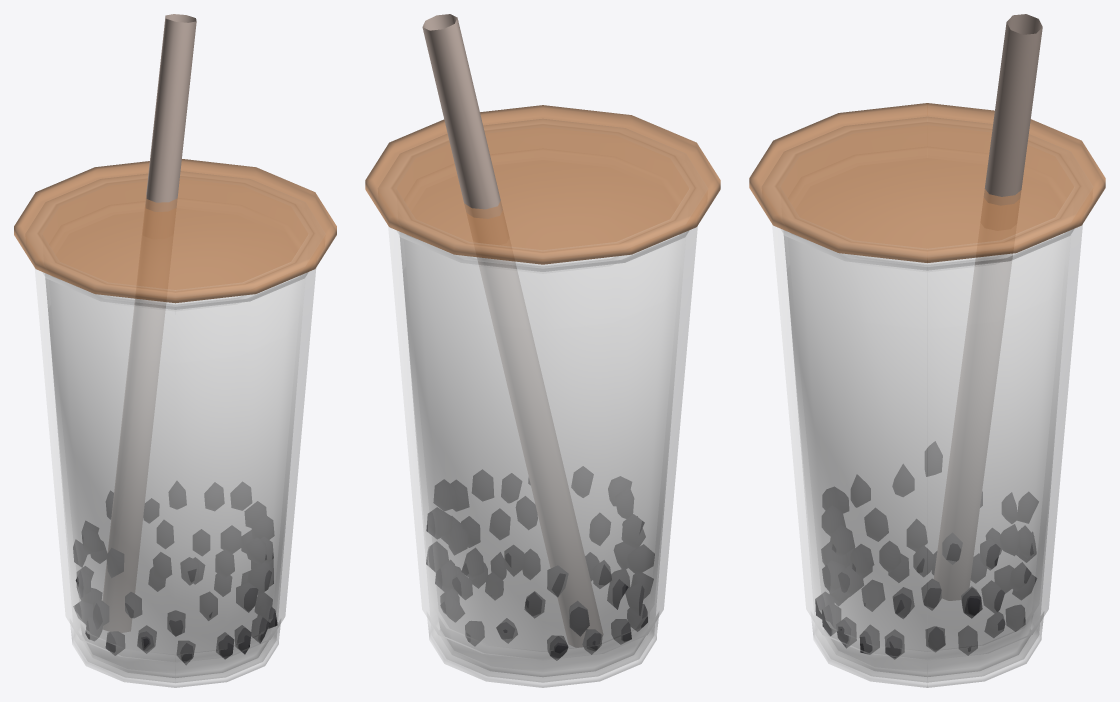
The model's file is plain _tea_boba.glb.
3 views of the same model, side by side, from view 1: azimuth 30°, elevation 25°; view 2: azimuth 150°, elevation 25°; view 3: azimuth 270°, elevation 25° (orthographic). The views are drawn at different scales.
Parts seen in each view (by area): view 1: Cup, drink, top, Cylinder, singular pearls.001; view 2: Cup, drink, top, Cylinder, singular pearls.001; view 3: Cup, drink, top, Cylinder, singular pearls.001.
Boxes of the visible parts, box(x1,y1,x2,y2) form: Cup: box(27, 171, 323, 687); drink: box(45, 276, 305, 677); top: box(14, 159, 336, 303); Cylinder: box(103, 14, 196, 632); singular pearls.001: box(73, 481, 277, 664); Cup: box(378, 119, 707, 687); drink: box(400, 235, 685, 676); top: box(365, 105, 720, 264); Cylinder: box(422, 14, 602, 646); singular pearls.001: box(426, 466, 654, 660); Cup: box(762, 117, 1092, 687); drink: box(784, 233, 1070, 676); top: box(749, 103, 1105, 262); Cylinder: box(934, 14, 1042, 600); singular pearls.001: box(815, 441, 1038, 658).
Bounding box in the file's own units: 1.03 × 2.06 × 1.03.
